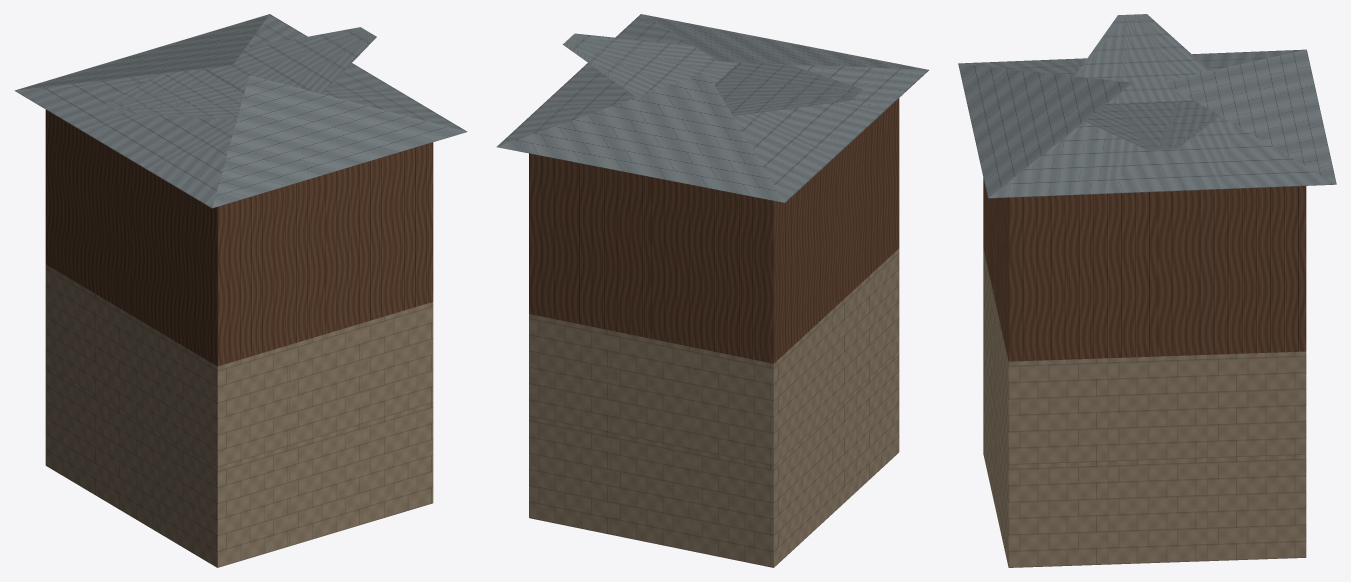
The model's file is bld_c12_6_549.gltf.
The picture shows the model from 3 angles, left to right: view 1: azimuth 30°, elevation 25°; view 2: azimuth 150°, elevation 25°; view 3: azimuth 270°, elevation 25°; orthographic projection. The views are drawn at different scales.
Visible parts, largest first — view 1: bld_c12_6_549; view 2: bld_c12_6_549; view 3: bld_c12_6_549.
Part boxes in pixels (bbox=[...]): bld_c12_6_549: bbox=[14, 14, 467, 567]; bld_c12_6_549: bbox=[497, 14, 928, 567]; bld_c12_6_549: bbox=[958, 14, 1336, 567].
Bounding box in the file's own units: 7.61 × 10.1 × 8.18.
Materials: 3 (3 with a texture image).
